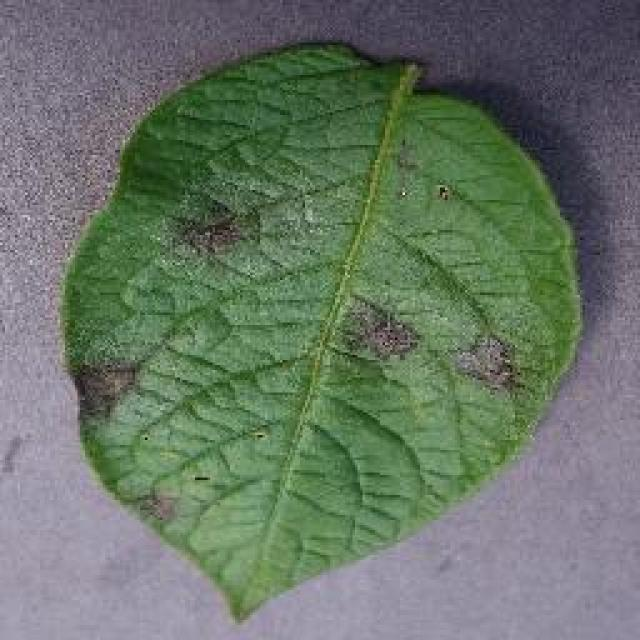Potato___Late_blight: (60, 41, 584, 624)
